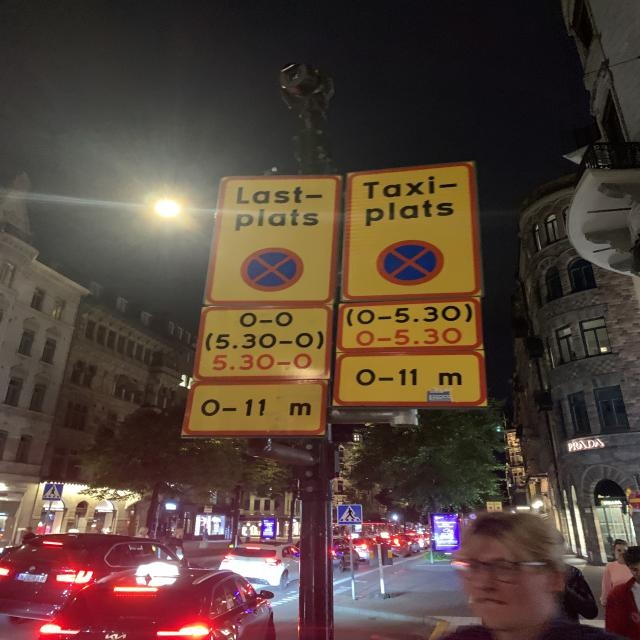lastplats: (202, 171, 344, 305)
